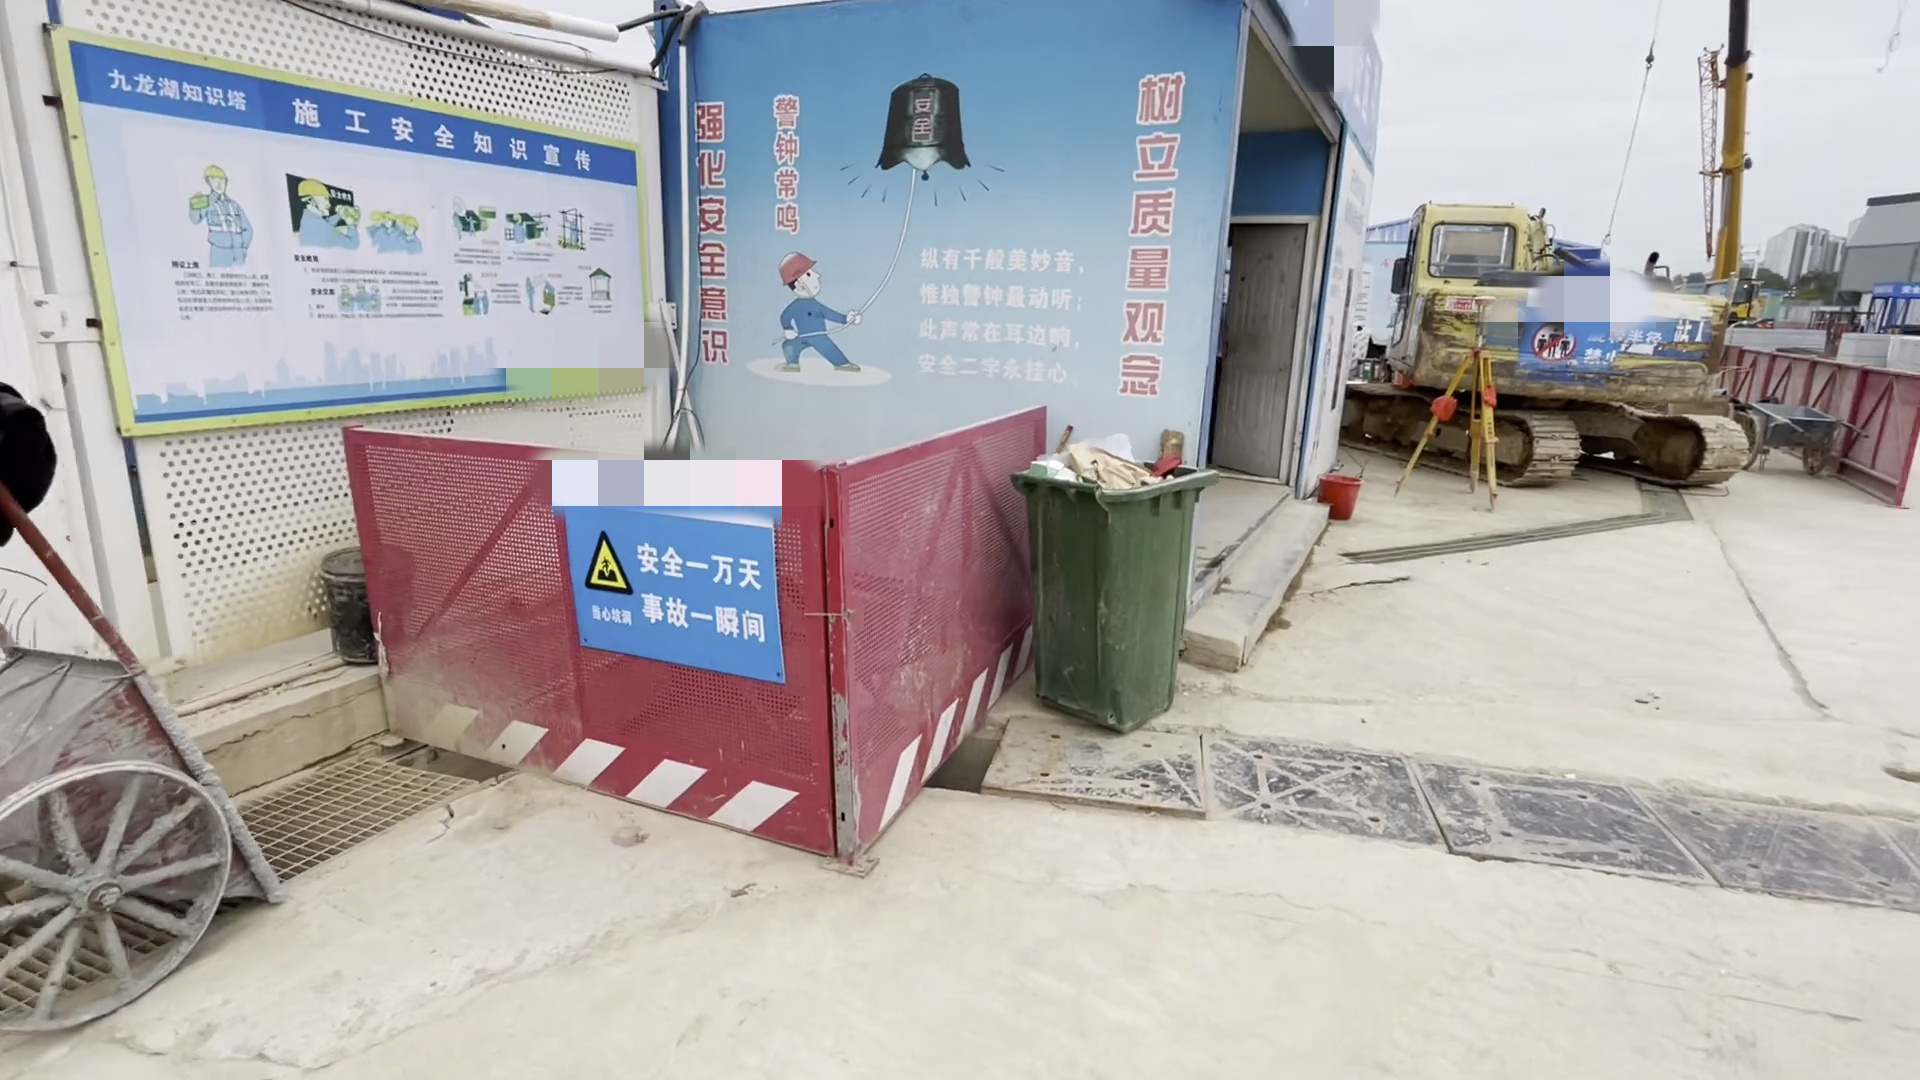slogan: (558, 492, 775, 688)
